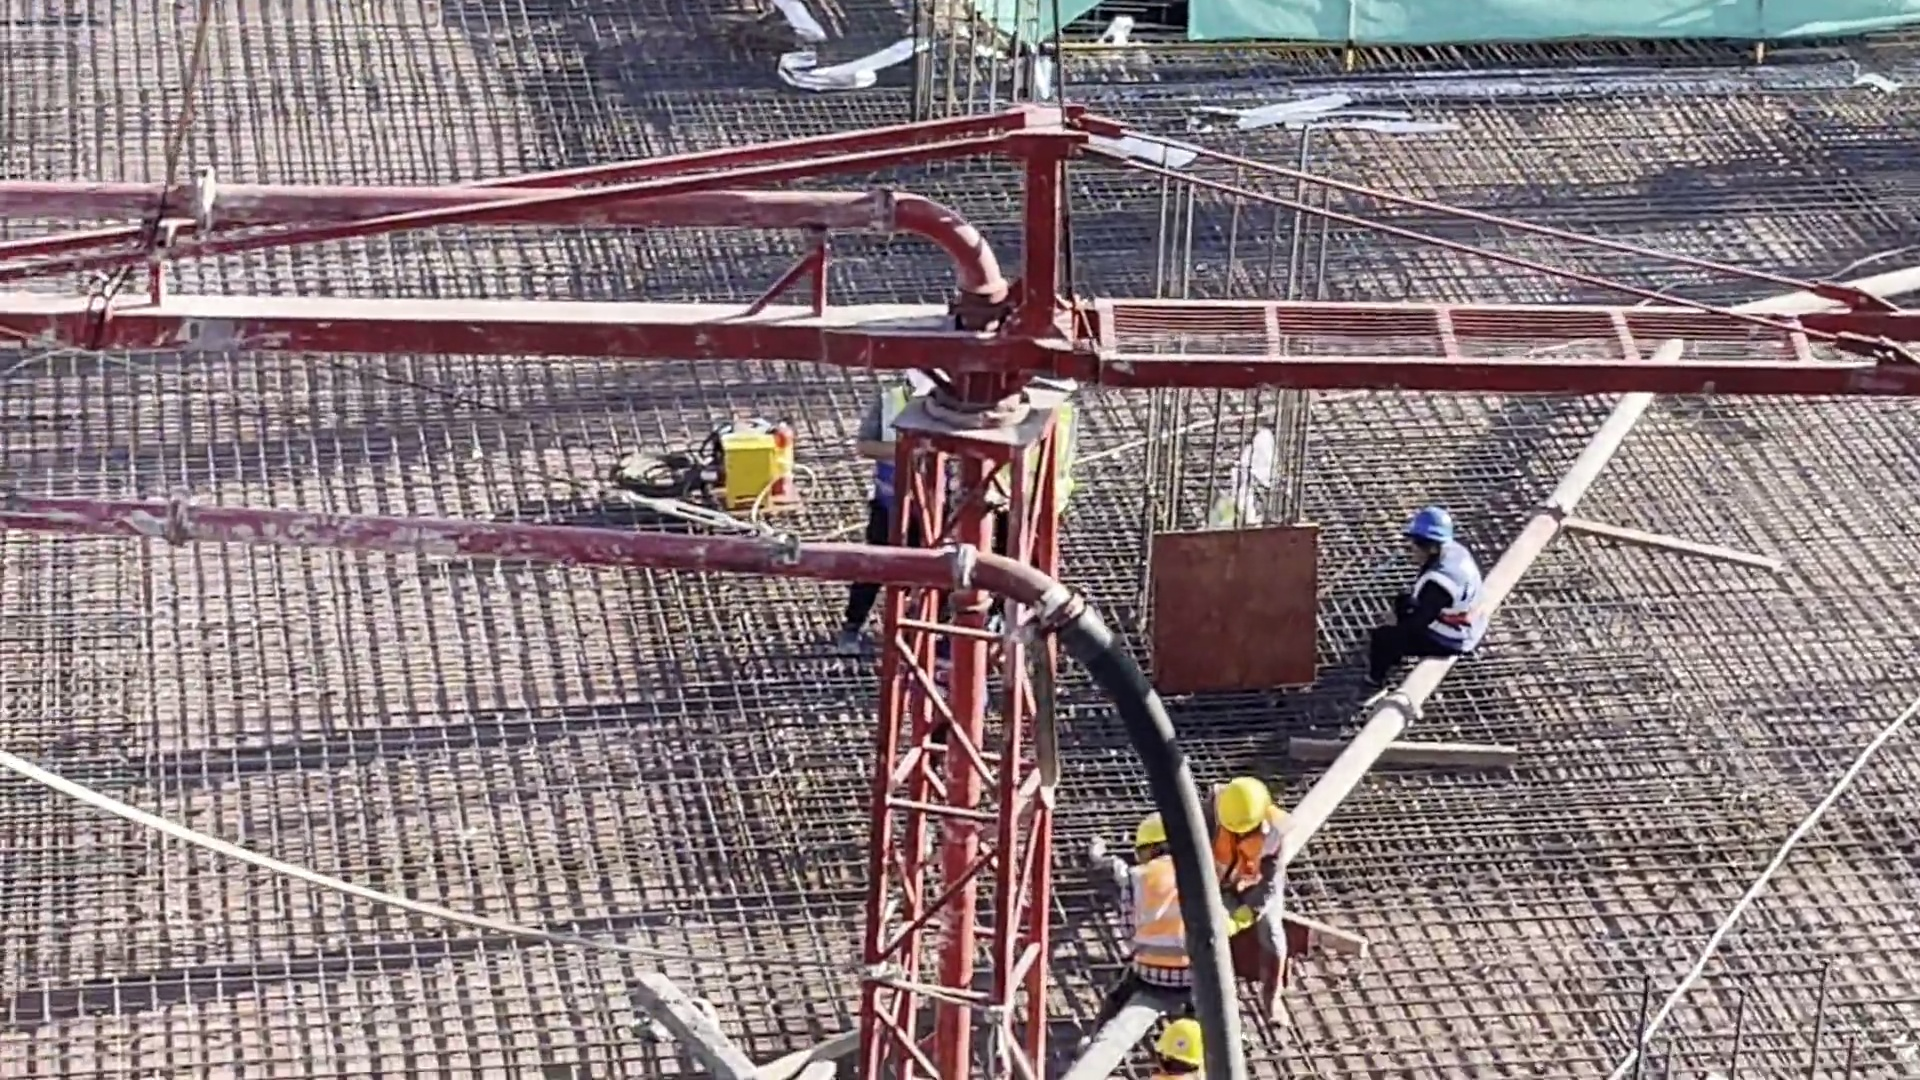helmet: (1159, 1017, 1210, 1070), (1224, 782, 1269, 841), (1402, 510, 1453, 542), (1128, 820, 1167, 844), (909, 373, 937, 402)
person: (1185, 780, 1322, 1023), (847, 375, 945, 654), (1089, 806, 1207, 1008), (1371, 500, 1485, 688), (1137, 1015, 1214, 1080)
vest: (1123, 866, 1184, 986), (1402, 553, 1477, 643), (1196, 826, 1290, 885), (877, 396, 921, 481)
